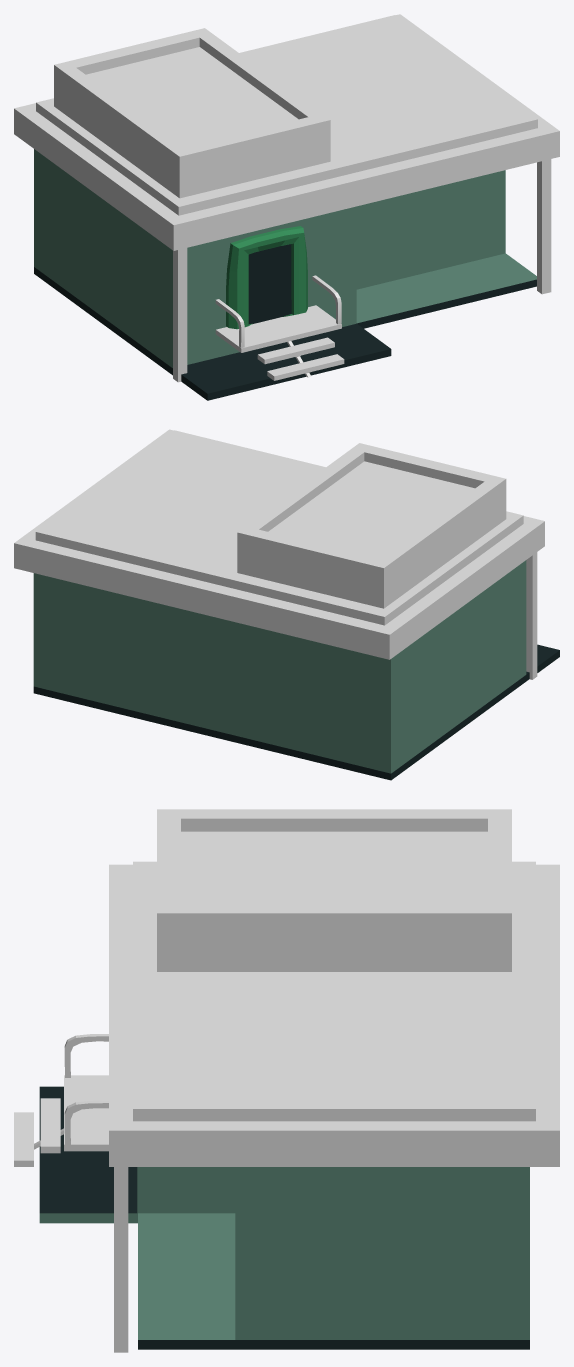
File: hub-1.fbx
3 renders of one model, top to bottom at view 1: azimuth 30°, elevation 25°; view 2: azimuth 150°, elevation 25°; view 3: azimuth 270°, elevation 25°, orthographic. The views are drawn at different scales.
Parts seen in each view (by area): view 1: Box014, Box002, Box001, Box003, Box015, Box004, Box005, Box006; view 2: Box014, Box002, Box004; view 3: Box014, Box002, Box003, Box015, Box005, Box006.
Boxes of the visible parts, x1=… form: Box014: x1=14, y1=14, x2=559, y2=250; Box002: x1=34, y1=149, x2=536, y2=400; Box001: x1=226, y1=226, x2=307, y2=329; Box003: x1=215, y1=305, x2=341, y2=352; Box015: x1=537, y1=159, x2=551, y2=294; Box004: x1=173, y1=248, x2=187, y2=382; Box005: x1=257, y1=337, x2=334, y2=364; Box006: x1=267, y1=354, x2=344, y2=380; Box014: x1=14, y1=429, x2=544, y2=659; Box002: x1=33, y1=560, x2=559, y2=780; Box004: x1=526, y1=552, x2=537, y2=679; Box014: x1=109, y1=809, x2=559, y2=1166; Box002: x1=39, y1=1086, x2=529, y2=1349; Box003: x1=64, y1=1075, x2=108, y2=1151; Box015: x1=114, y1=1167, x2=128, y2=1352; Box005: x1=40, y1=1098, x2=60, y2=1153; Box006: x1=14, y1=1112, x2=33, y2=1166.
Size of the model in its own units: 738 by 385 by 640.
